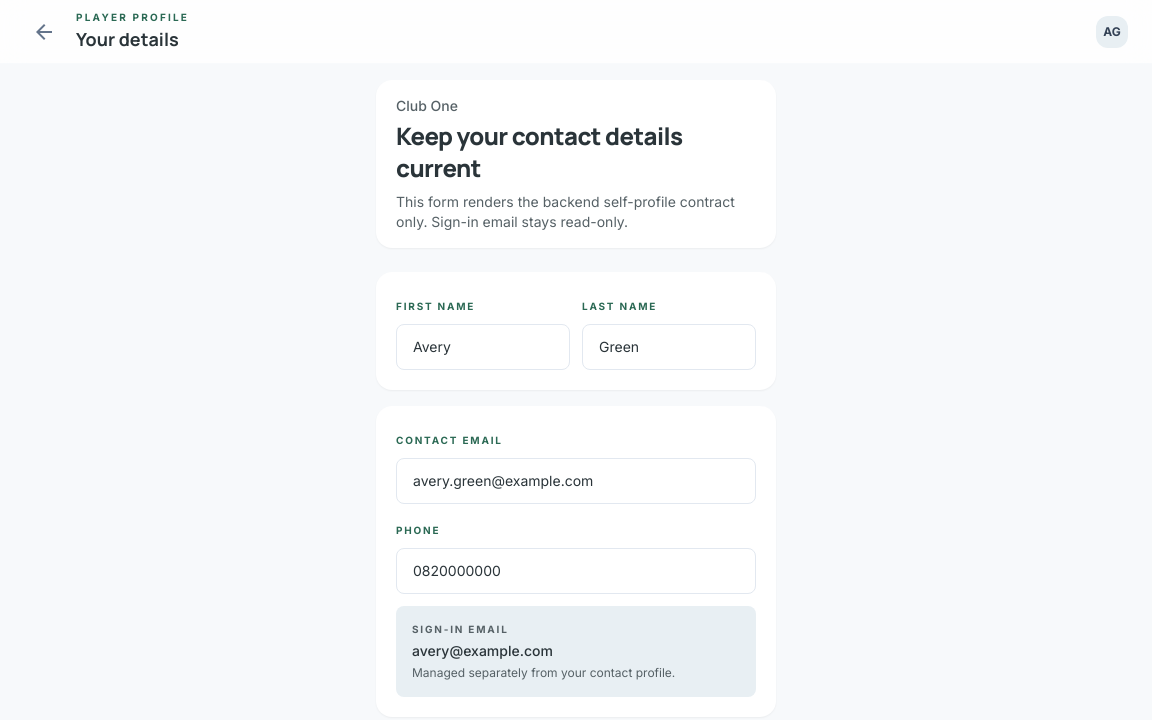
it: PlayerProfilePage › submits profile updates and reloads bootstrap
Replace the text in the field labelled "First Name" with "Avery-Jane": (483, 347) [396,324,570,370]
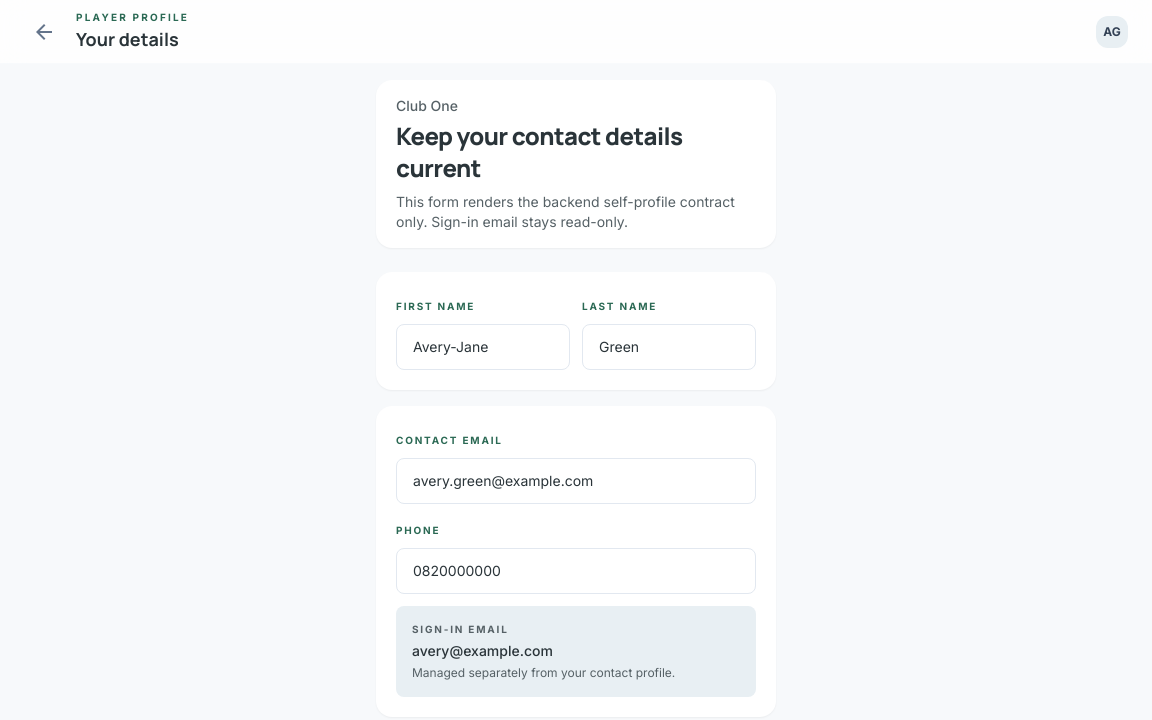
Replace the text in the field labelled "Phone" with "0831112222": (576, 571) [396,548,756,594]
(page scrolled)
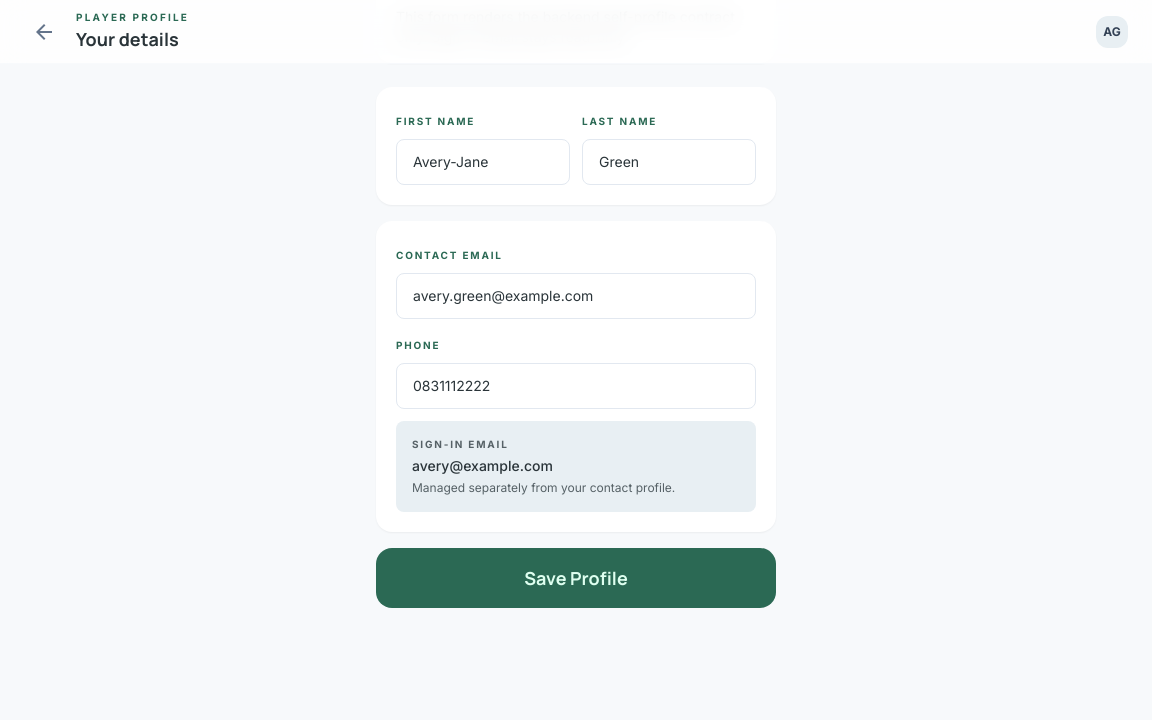
Click the button "Save Profile": (576, 578) [376,548,776,608]
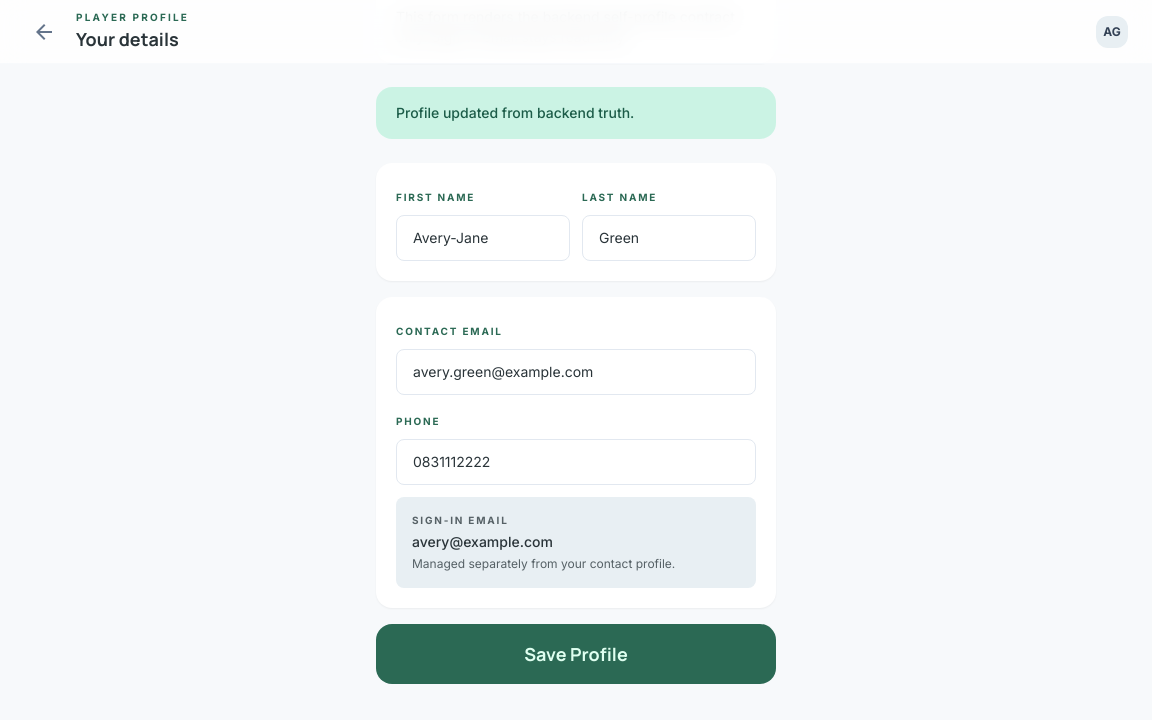
Now the text "Profile updated from backend truth." is shown, box [376,87,776,139]
